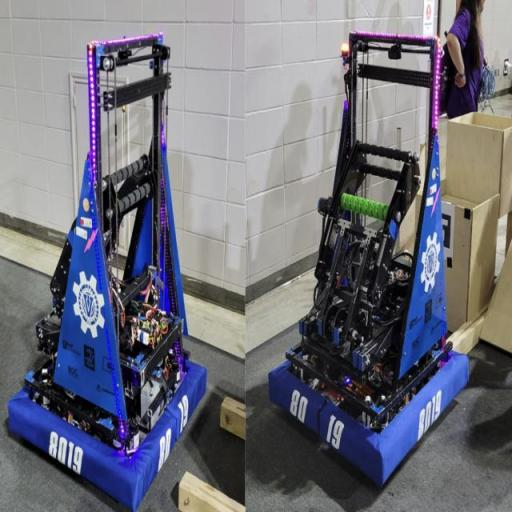robot: (1, 28, 210, 510), (264, 22, 475, 488)
